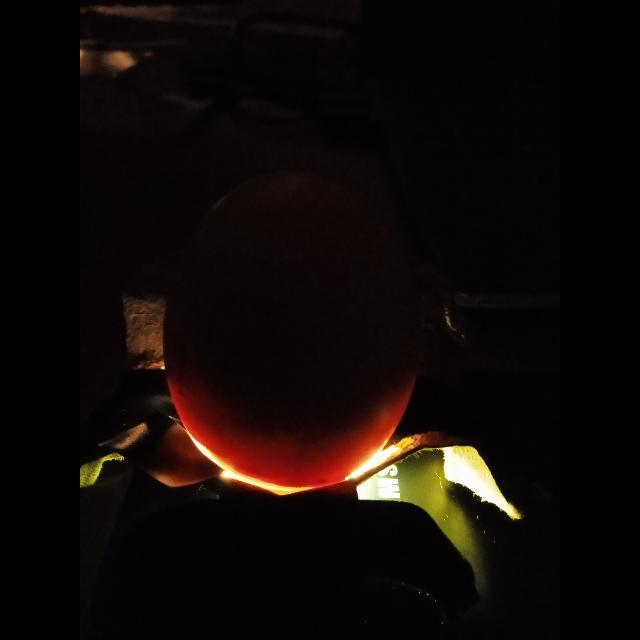Fertile: (157, 166, 430, 490)
